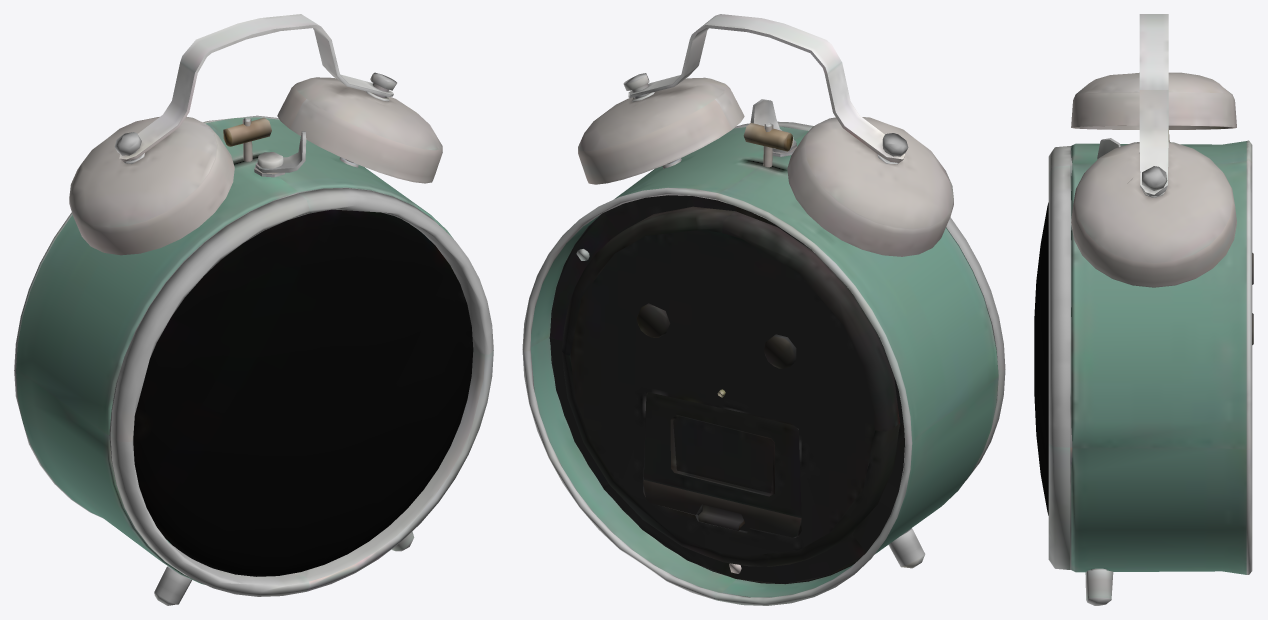
The model's file is alarm-clock.glb.
The picture shows the model from 3 angles, left to right: view 1: azimuth 30°, elevation 25°; view 2: azimuth 150°, elevation 25°; view 3: azimuth 270°, elevation 25°; orthographic projection. The views are drawn at different scales.
Parts seen in each view (by area): view 1: alarm_clock_01; view 2: alarm_clock_01; view 3: alarm_clock_01.
Boxes of the visible parts, x1,y1,x2,y2 form: alarm_clock_01: [14, 14, 493, 605]; alarm_clock_01: [522, 14, 1005, 605]; alarm_clock_01: [1034, 14, 1253, 605].
Size of the model in its own units: 0.1316 by 0.1741 by 0.0662.
Materials: 2 (2 with a texture image).
